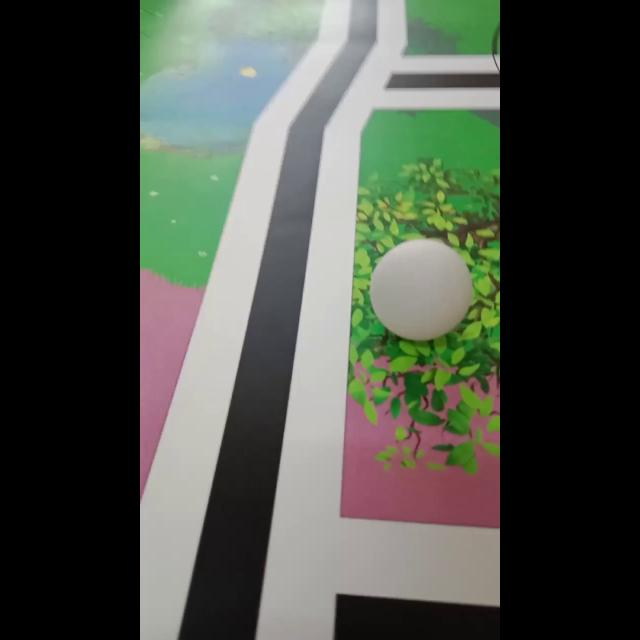white ball: (368, 237, 474, 341)
